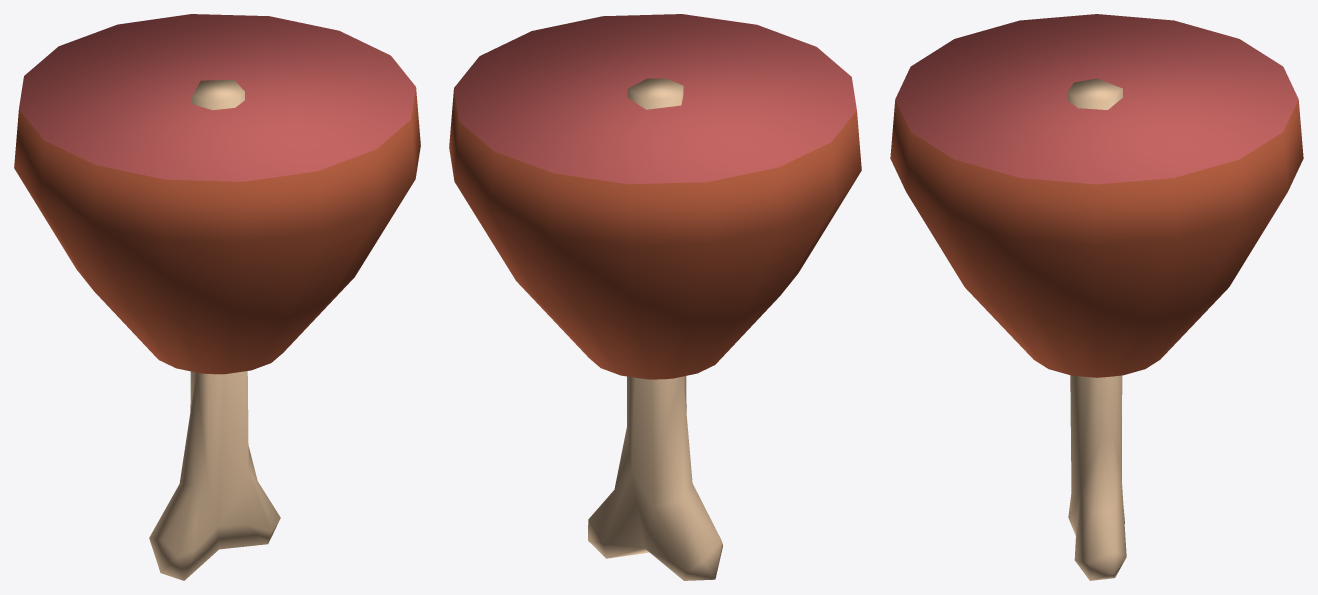
The model's file is meat.fbx.
The picture shows the model from 3 angles, left to right: view 1: azimuth 30°, elevation 25°; view 2: azimuth 150°, elevation 25°; view 3: azimuth 270°, elevation 25°; orthographic projection.
Parts seen in each view (by area): view 1: Cylinder, Mball.003; view 2: Cylinder, Mball.003; view 3: Cylinder, Mball.003.
Boxes of the visible parts, x1,y1,x2,y2 form: Cylinder: (14, 14, 420, 374); Mball.003: (149, 79, 280, 580); Cylinder: (449, 14, 861, 379); Mball.003: (588, 78, 722, 580); Cylinder: (890, 14, 1303, 377); Mball.003: (1067, 78, 1126, 580).
Size of the model in its own units: 269 by 344 by 269.
